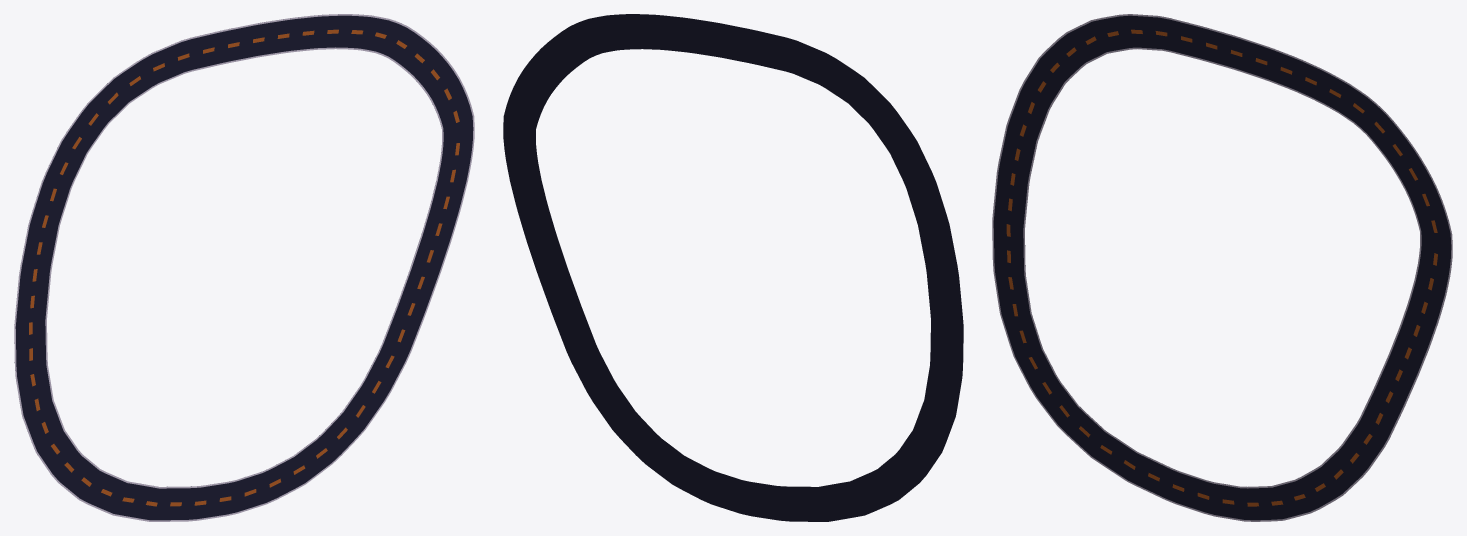
File: track.obj
3 renders of one model, left to right at view 1: azimuth 30°, elevation 25°; view 2: azimuth 150°, elevation 25°; view 3: azimuth 330°, elevation 25°, orthographic.
Bounding box in the file's own units: 11.97 × 12.11 × 0.002.
3 materials, 3 textured.
